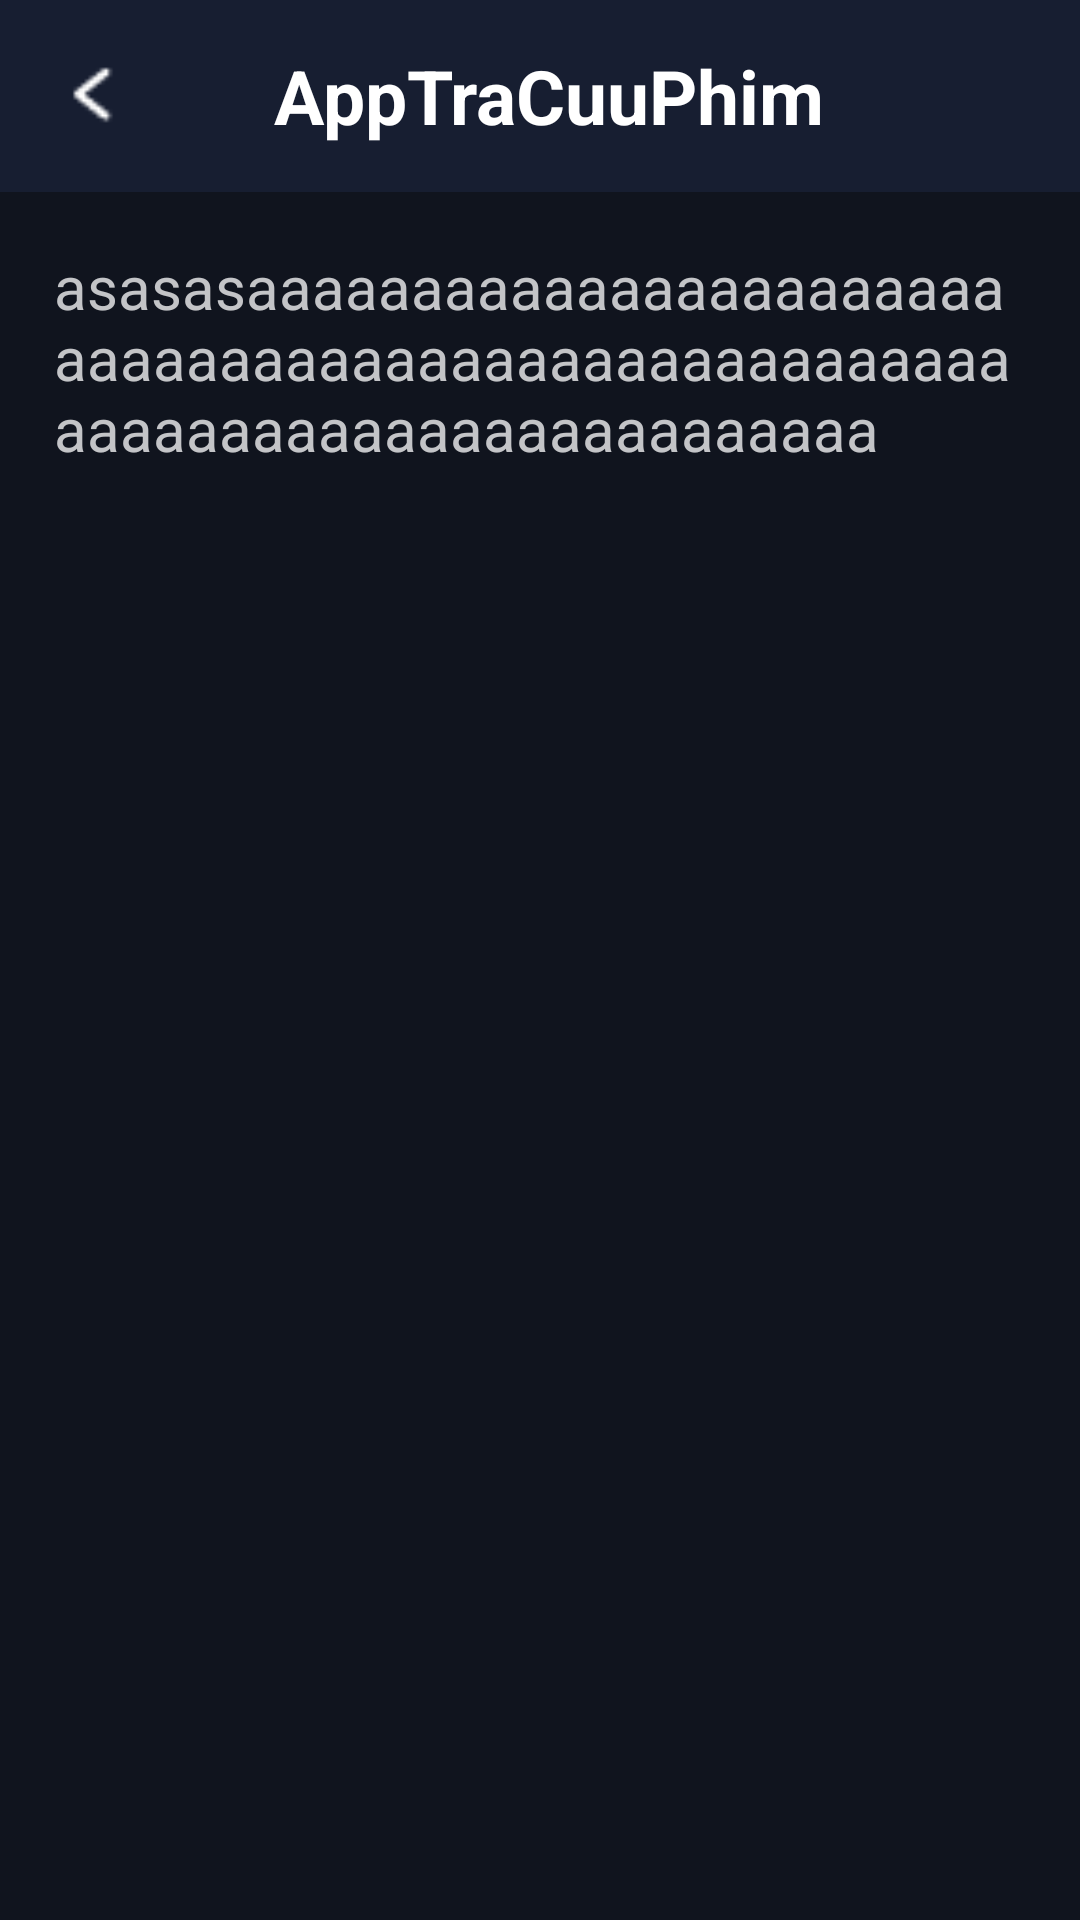

Where to tap for icons on this 1080 x 1920 app screen, as [x,y]:
arrow left: [92,94]
